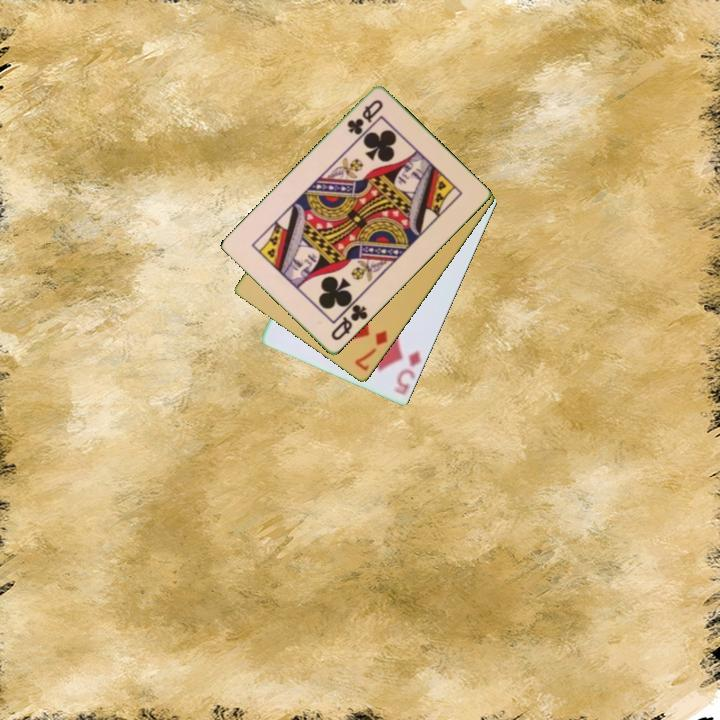5d: (393, 346, 425, 398)
7d: (351, 327, 391, 374)
Qc: (327, 301, 371, 344), (343, 97, 386, 138)
